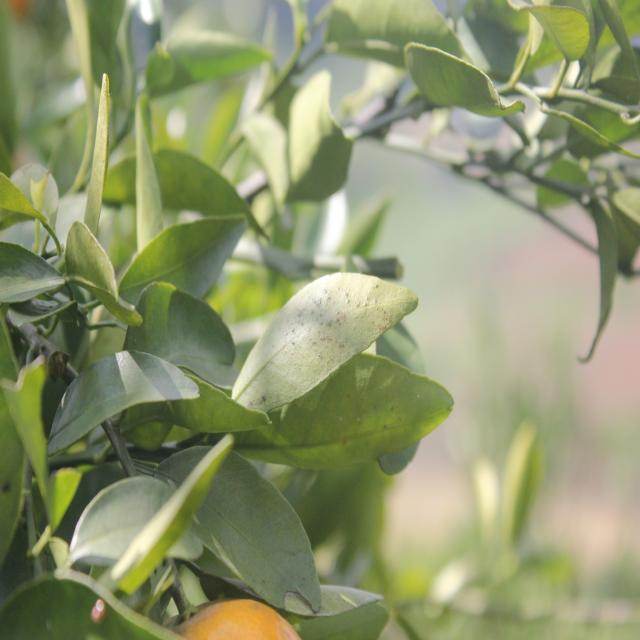melanose: (227, 260, 415, 414)
